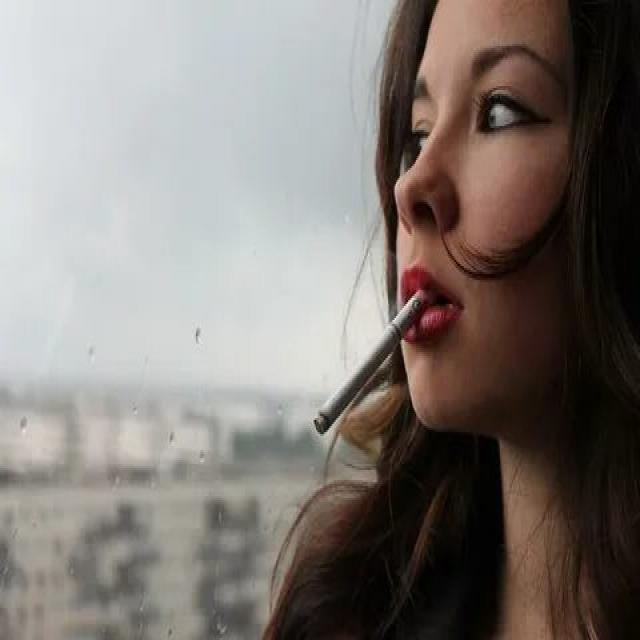cigarette: (308, 280, 435, 448)
